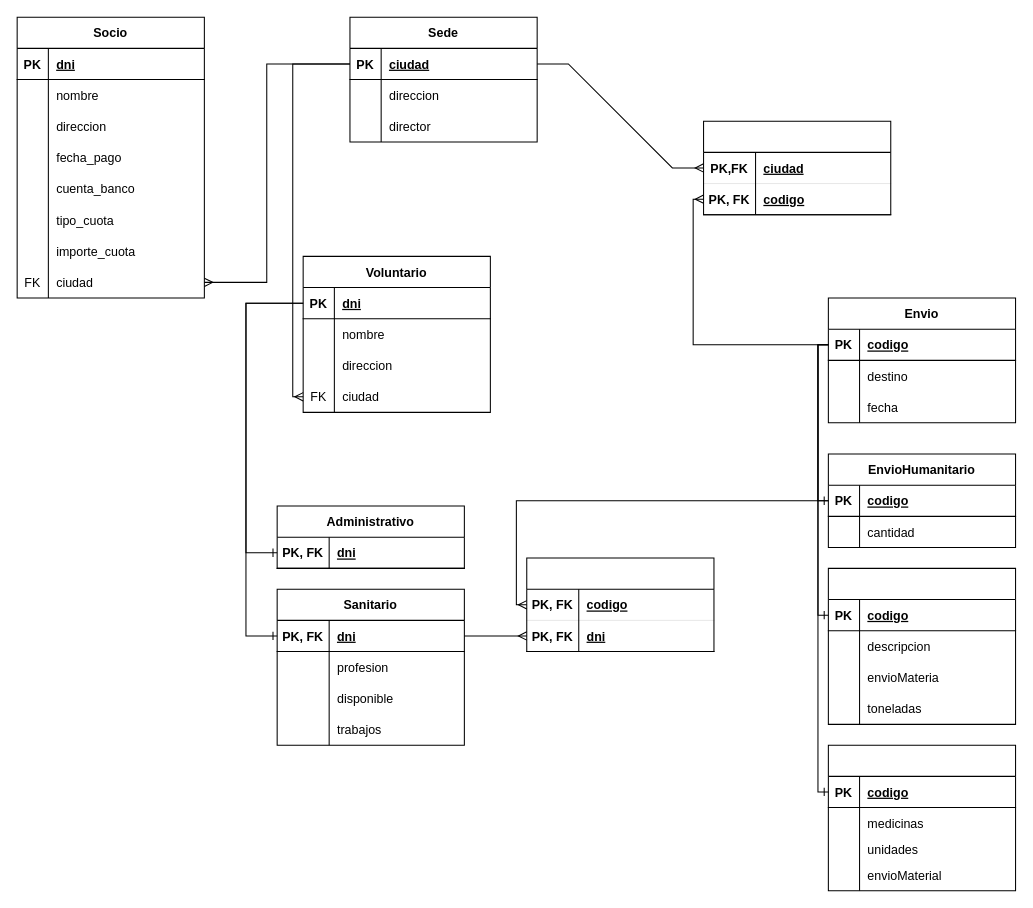
The diagram is 1033 pixels wide and 908 high, and some of its shapes have lost their labels. The box of each missing label's shape, as (x1, y1, x2, y2) in pixels:
EnvioAlimentos: (827, 567, 1016, 724)
EnvioMedicamentos: (827, 744, 1016, 891)
Organiza: (703, 120, 891, 215)
Realiza: (526, 557, 714, 652)
